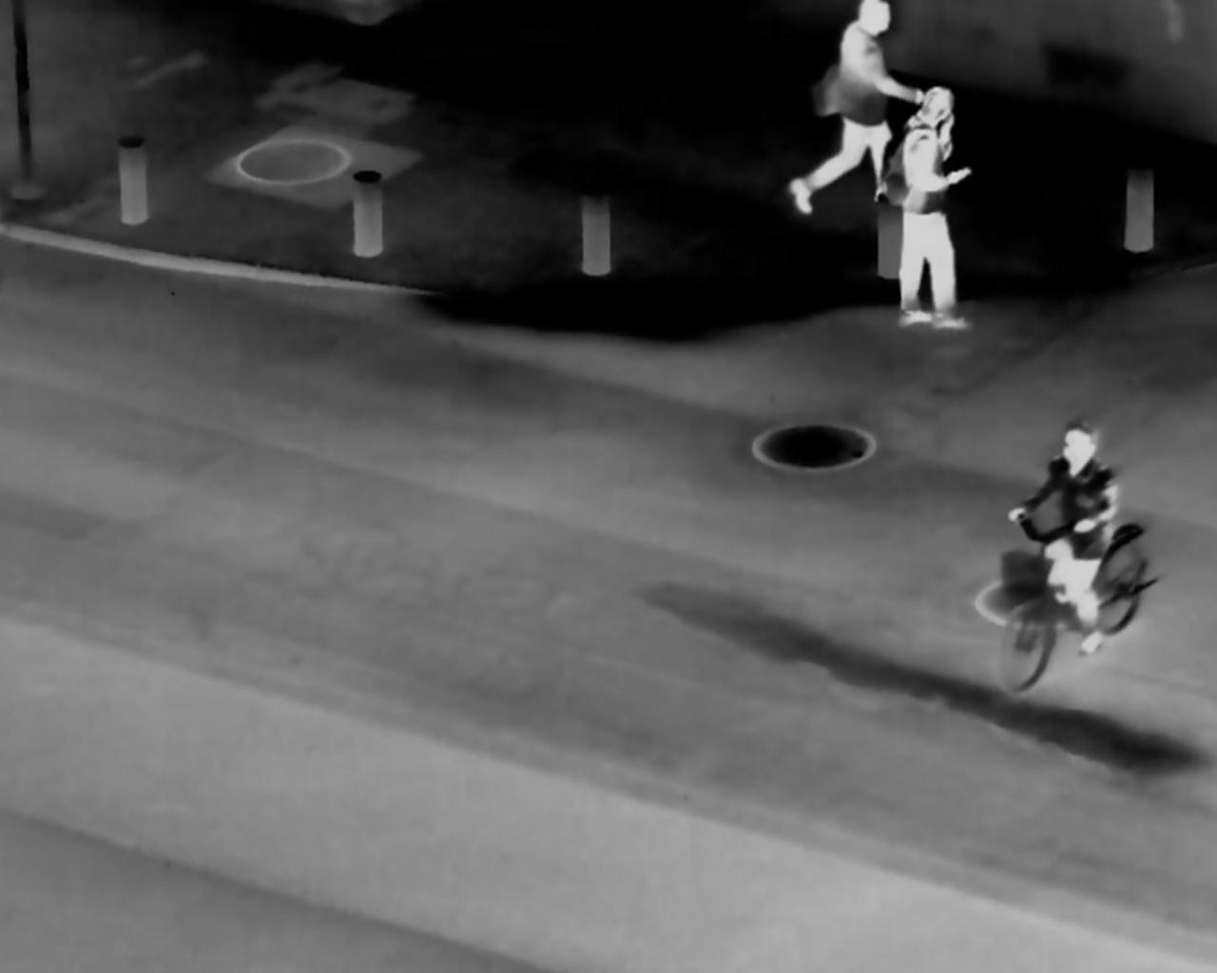person: (1010, 400, 1125, 664), (897, 85, 977, 338)
